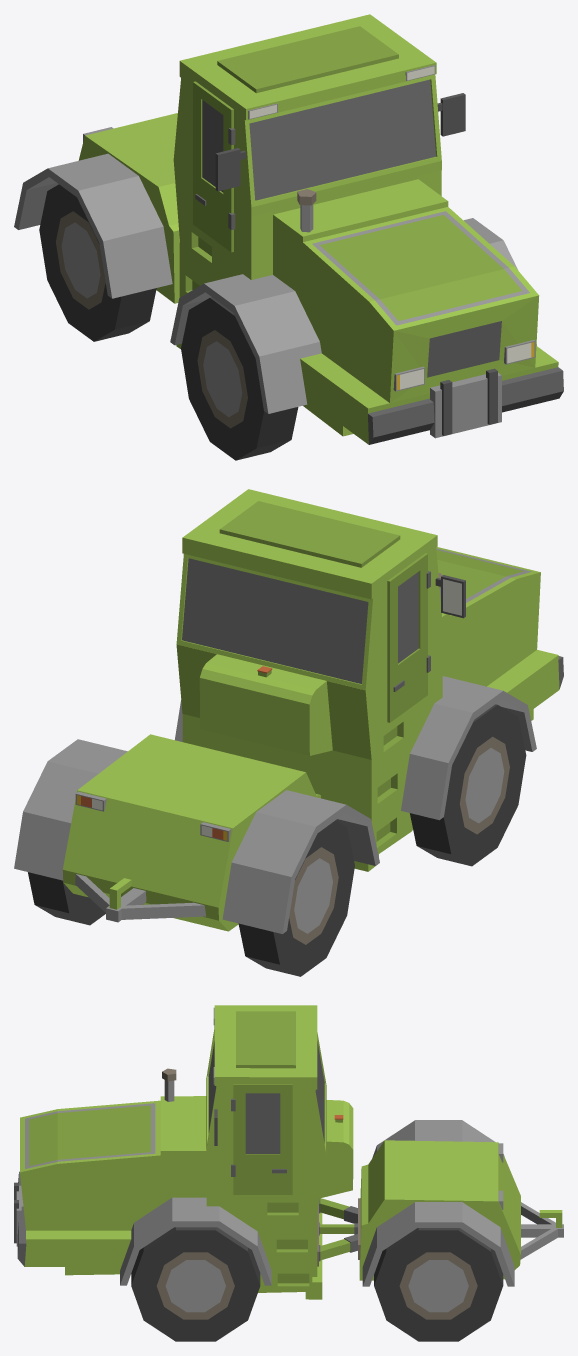
File: kar2_2.fbx
The picture shows the model from 3 angles, top to bottom: view 1: azimuth 30°, elevation 25°; view 2: azimuth 150°, elevation 25°; view 3: azimuth 270°, elevation 25°; orthographic projection. The views are drawn at different scales.
Visible parts, largest first — view 1: Cube, Cylinder, Cylinder_1; view 2: Cube, Cylinder, Cylinder_1, Cylinder_5; view 3: Cube, Cylinder_2, Cylinder_5.
Boxes of the visible parts, x1,y1,x2,y2 form: Cube: (14,14,563,444); Cylinder: (181,297,298,460); Cylinder_1: (39,184,156,341); Cube: (14,489,563,933); Cylinder: (410,704,526,866); Cylinder_1: (238,820,354,976); Cylinder_5: (28,872,105,925); Cube: (14,1005,563,1299); Cylinder_2: (131,1227,260,1341); Cylinder_5: (374,1228,503,1341).
Size of the model in its own units: 242 by 280 by 550.
